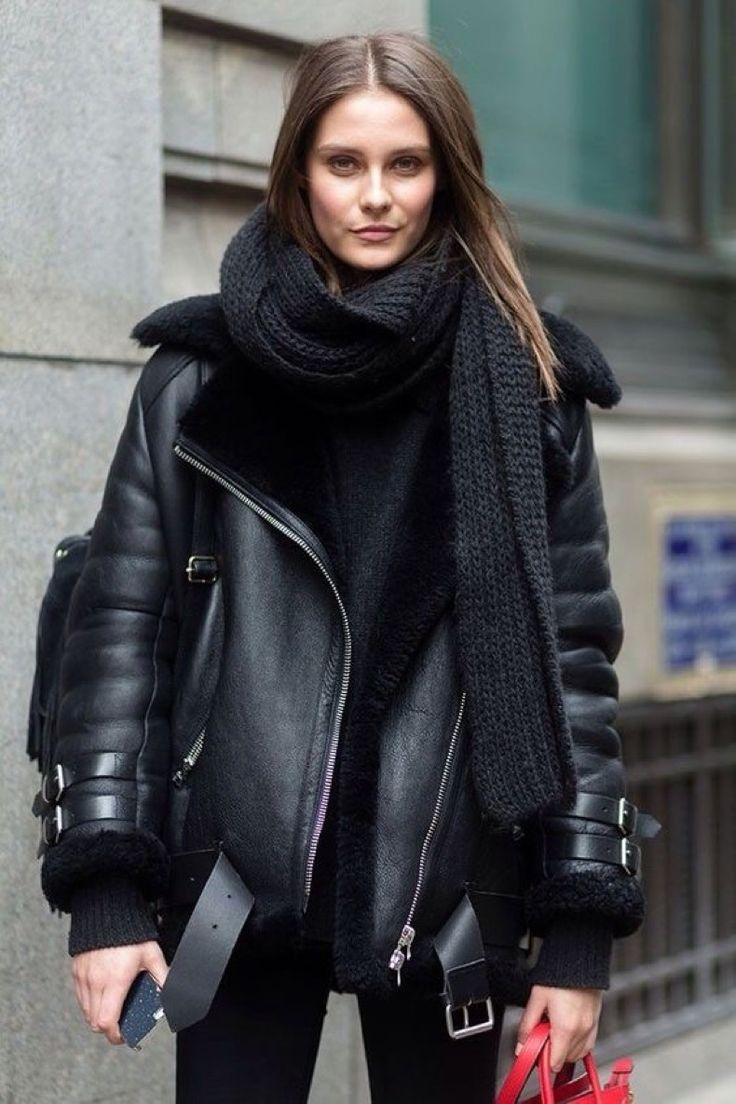cuero: (37, 296, 650, 1032)
